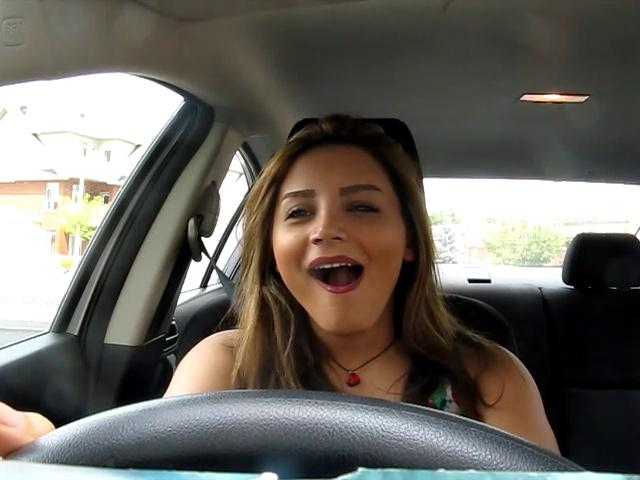close_eyeL: (274, 198, 322, 230)
close_eyeR: (334, 195, 391, 225)
yawn: (295, 251, 380, 297)
